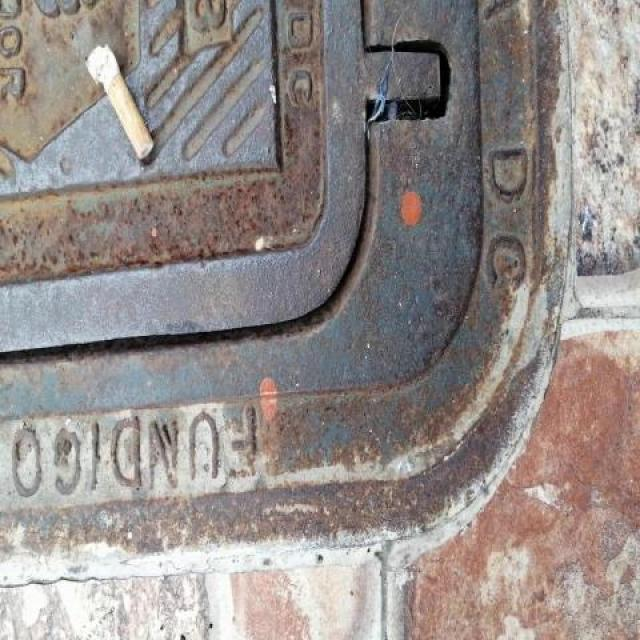non-organic waste: (82, 40, 157, 164)
